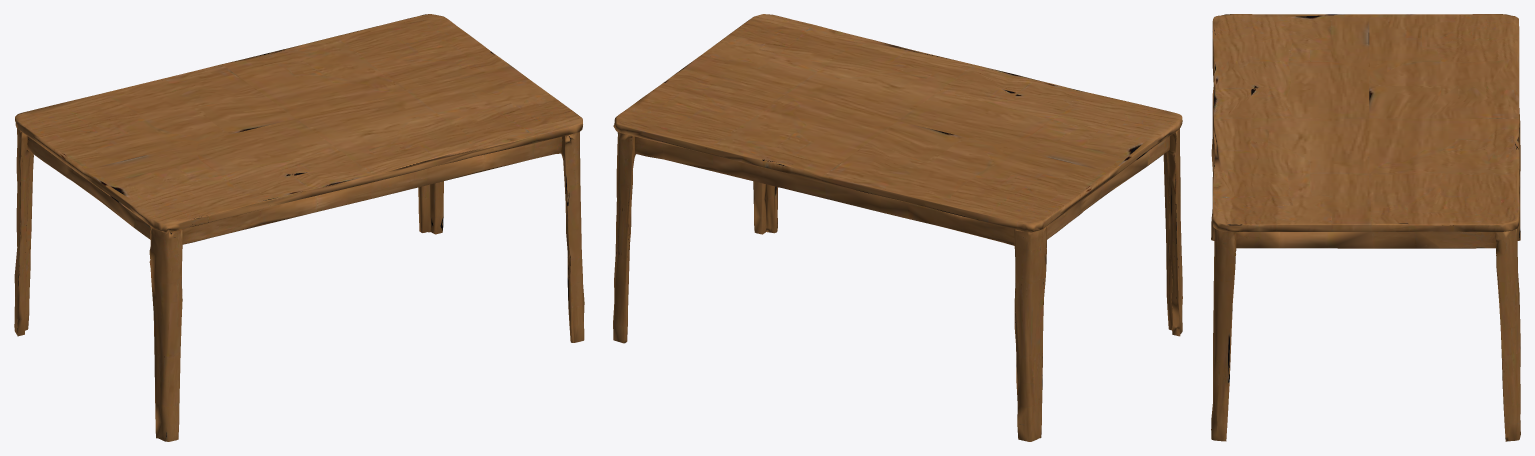
The model's file is mobile.glb.
3 views of the same model, side by side, from view 1: azimuth 30°, elevation 25°; view 2: azimuth 150°, elevation 25°; view 3: azimuth 270°, elevation 25° (orthographic).
Visible parts, largest first — view 1: diningtable; view 2: diningtable; view 3: diningtable.
Boxes of the visible parts, <box> form: diningtable: <box>14,14,584,441</box>; diningtable: <box>613,14,1182,441</box>; diningtable: <box>1211,14,1520,441</box>.
Size of the model in its own units: 1.49 by 0.7183 by 0.9235.
Materials: 1 (1 with a texture image).
